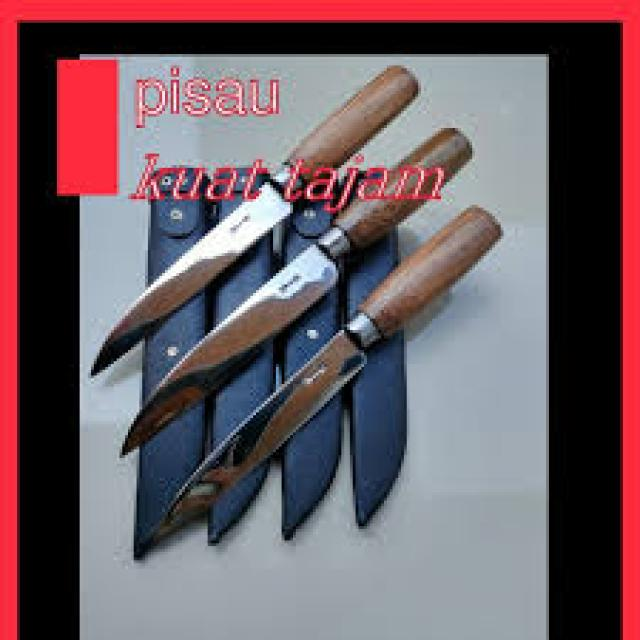Knife: (62, 165, 515, 527)
